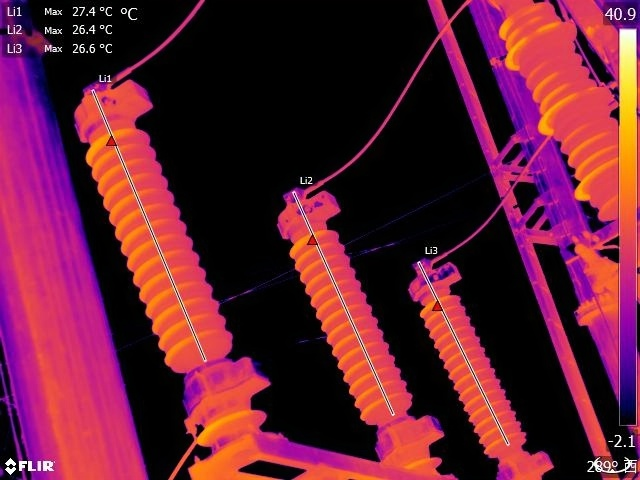lightning arrester: (75, 71, 268, 413), (276, 170, 443, 459), (413, 237, 550, 476)
post insulator: (490, 1, 620, 221)
